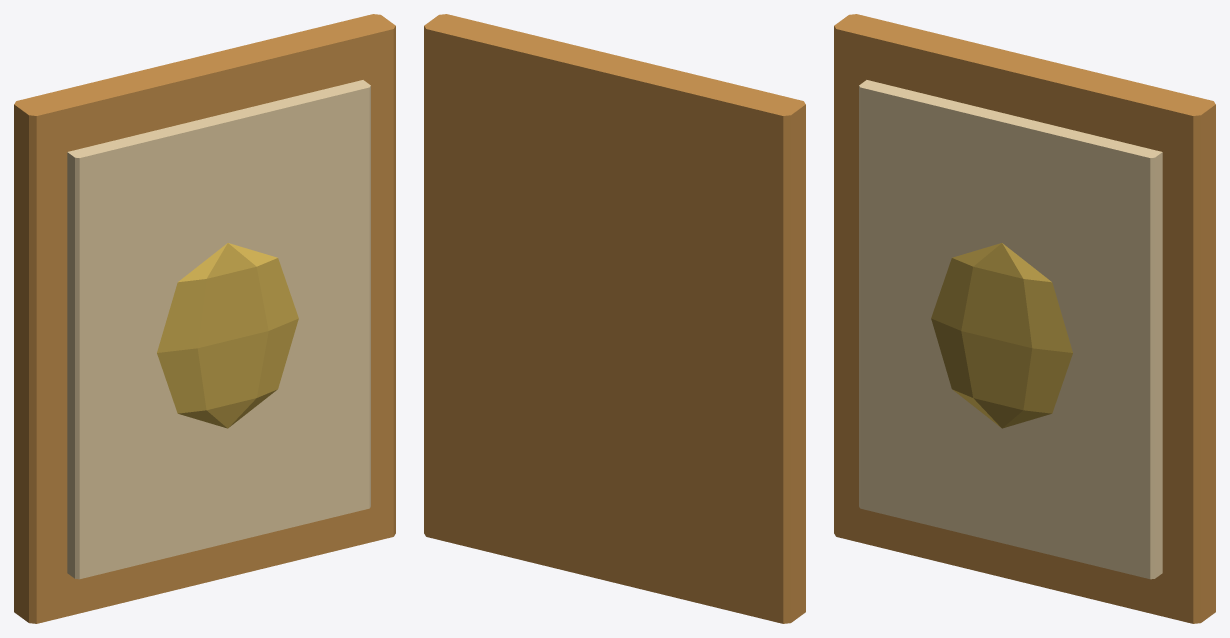
File: Frame.fbx
3 renders of one model, left to right at view 1: azimuth 30°, elevation 25°; view 2: azimuth 150°, elevation 25°; view 3: azimuth 330°, elevation 25°, orthographic.
Parts seen in each view (by area): view 1: Frame.005; view 2: Frame.005; view 3: Frame.005.
Part boxes in pixels (x1=…): Frame.005: x1=14, y1=14, x2=395, y2=623; Frame.005: x1=424, y1=14, x2=805, y2=623; Frame.005: x1=834, y1=14, x2=1215, y2=623.
Size of the model in its own units: 62 by 82 by 11.26.
